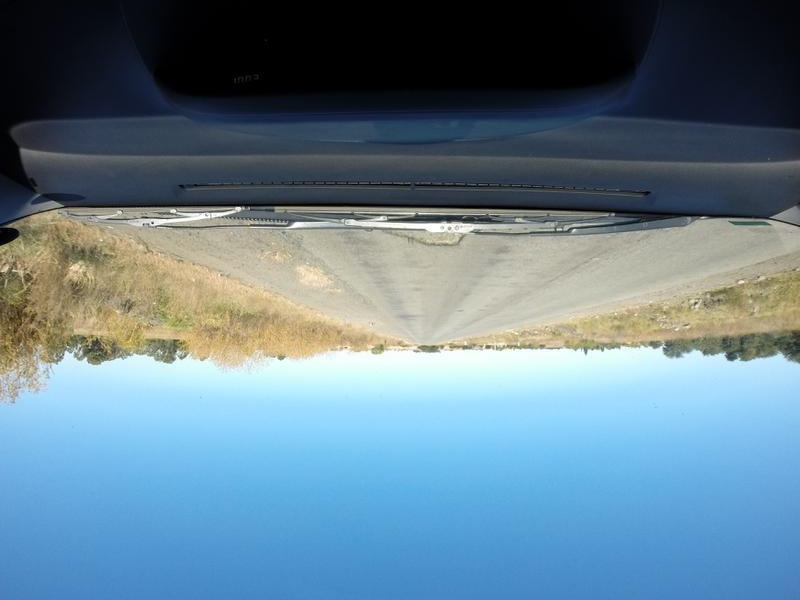pothole: (373, 232, 475, 243)
